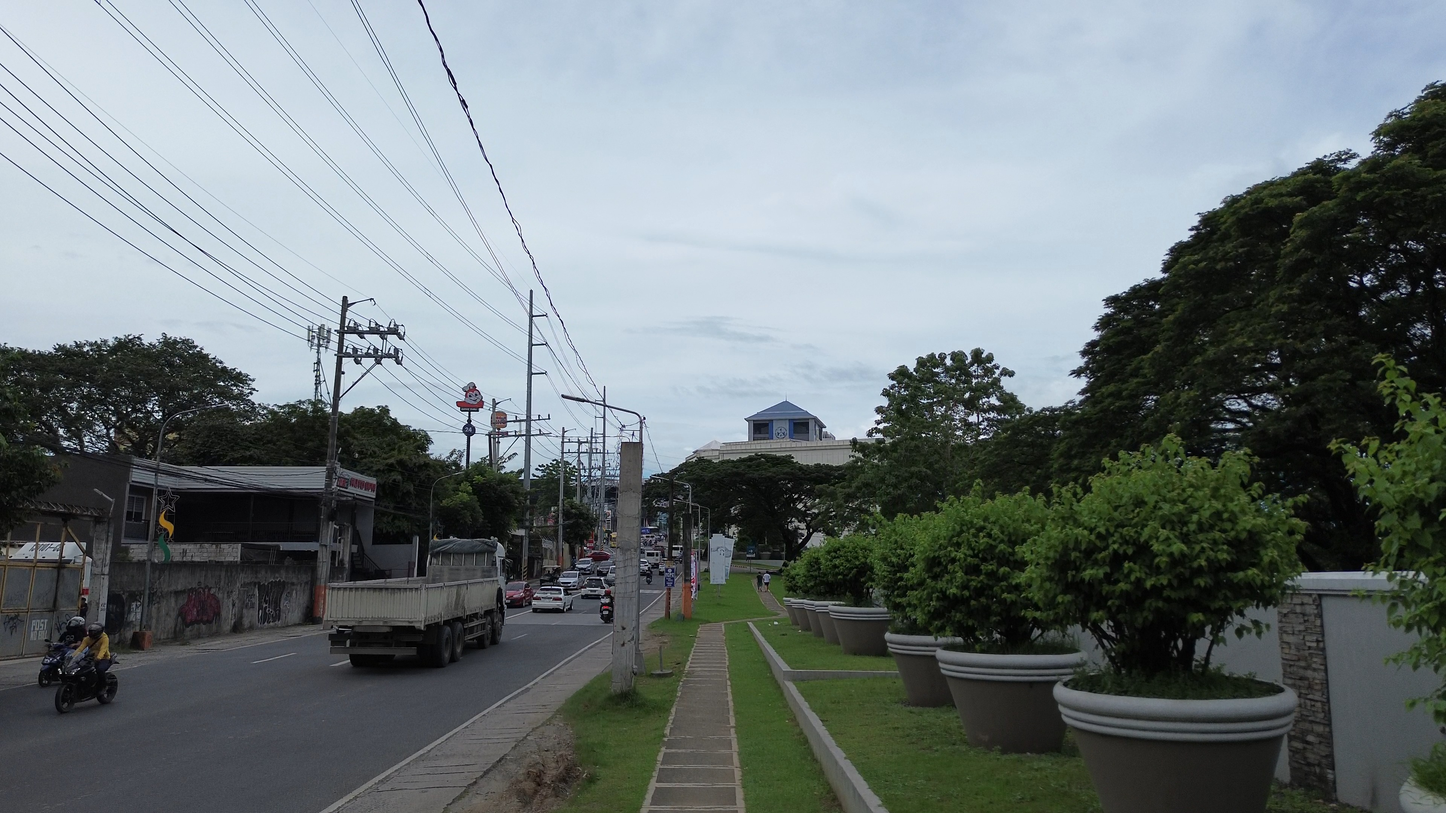car: (532, 586, 574, 612), (575, 558, 593, 573), (604, 570, 616, 587)
motorcycle: (54, 653, 118, 713), (37, 639, 69, 687), (599, 597, 614, 623)
truck: (324, 539, 505, 667)
vehicle: (505, 581, 533, 607), (580, 576, 607, 598), (557, 570, 582, 592), (599, 591, 614, 623), (642, 548, 664, 567), (575, 558, 594, 574), (590, 550, 612, 563), (603, 569, 616, 587)
